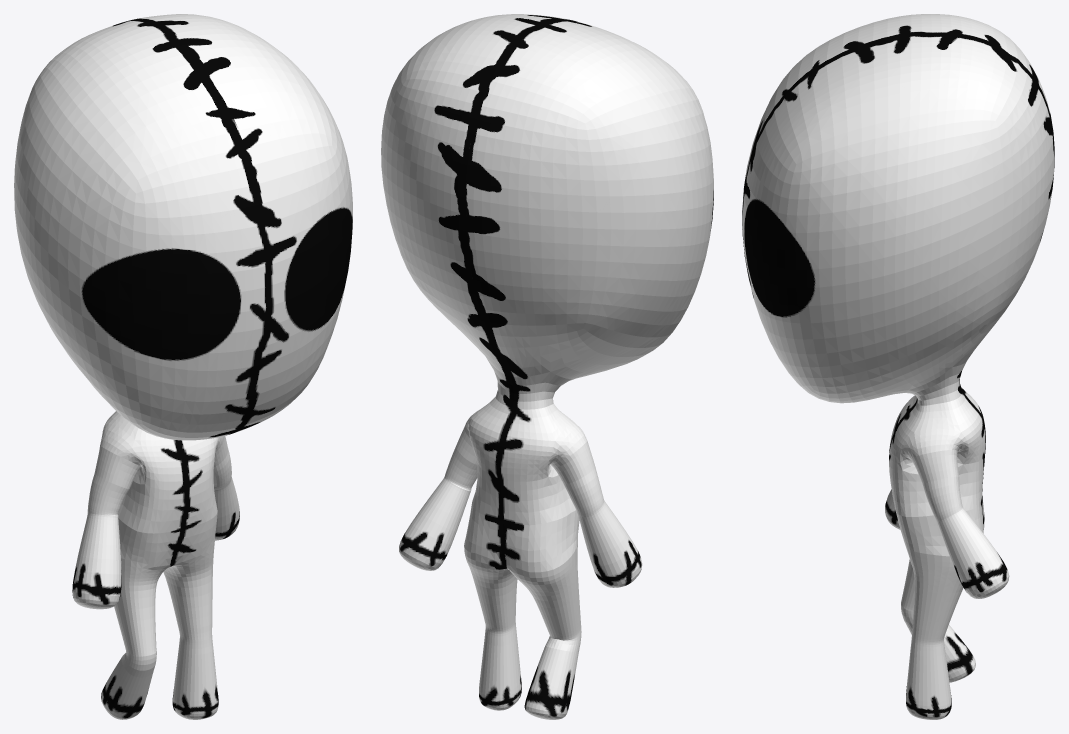
File: Muhammer.obj
The picture shows the model from 3 angles, left to right: view 1: azimuth 30°, elevation 25°; view 2: azimuth 150°, elevation 25°; view 3: azimuth 270°, elevation 25°; orthographic projection. The views are drawn at different scales.
Visible parts, largest first — view 1: Cube; view 2: Cube; view 3: Cube.
Part boxes in pixels (x1,y1,x2,y2): Cube: [14, 14, 352, 719]; Cube: [381, 14, 713, 719]; Cube: [742, 14, 1054, 719].
Size of the model in its own units: 1.96 by 4.35 by 1.84.
Materials: 1 (1 with a texture image).
